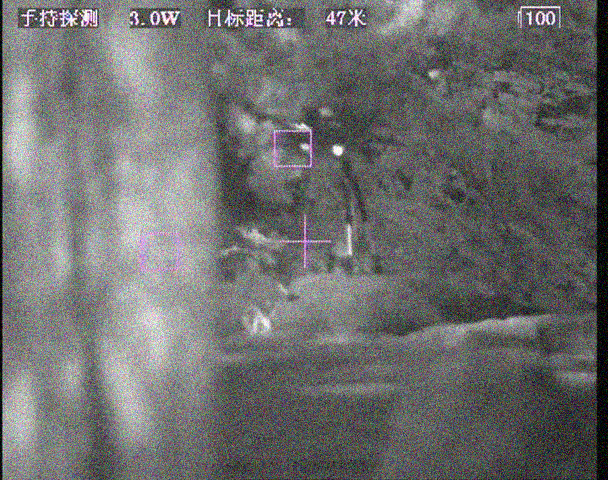my: (331, 144, 342, 157)
